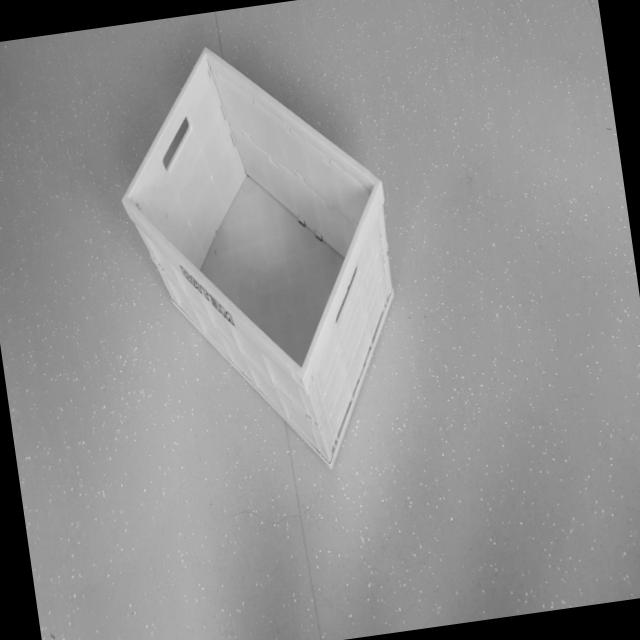box: (100, 20, 430, 514)
